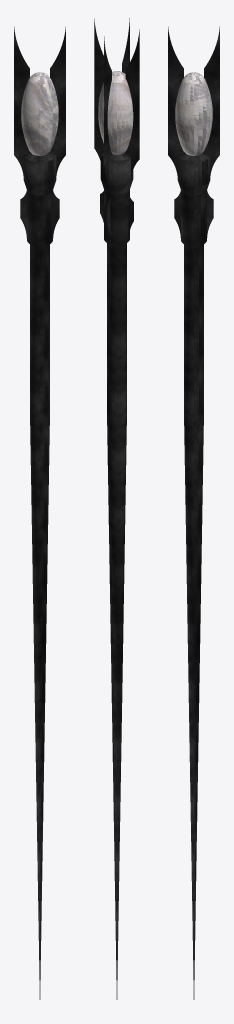
File: S_staff.obj
The picture shows the model from 3 angles, left to right: view 1: azimuth 90°, elevation 25°; view 2: azimuth 150°, elevation 25°; view 3: azimuth 270°, elevation 25°; orthographic projection.
Visible parts, largest first — view 1: Mesh1 Group2 Group1 Model, Mesh2 Group3 Group1 Model; view 2: Mesh1 Group2 Group1 Model, Mesh2 Group3 Group1 Model; view 3: Mesh1 Group2 Group1 Model, Mesh2 Group3 Group1 Model.
Boxes of the visible parts, <box> form: Mesh1 Group2 Group1 Model: <box>14,26,65,999</box>; Mesh2 Group3 Group1 Model: <box>21,72,58,155</box>; Mesh1 Group2 Group1 Model: <box>94,18,139,999</box>; Mesh2 Group3 Group1 Model: <box>98,71,133,154</box>; Mesh1 Group2 Group1 Model: <box>168,26,219,999</box>; Mesh2 Group3 Group1 Model: <box>175,72,212,155</box>.
Bounding box in the file's own units: 2.84 × 59.44 × 2.84.
4 materials, 2 textured.
